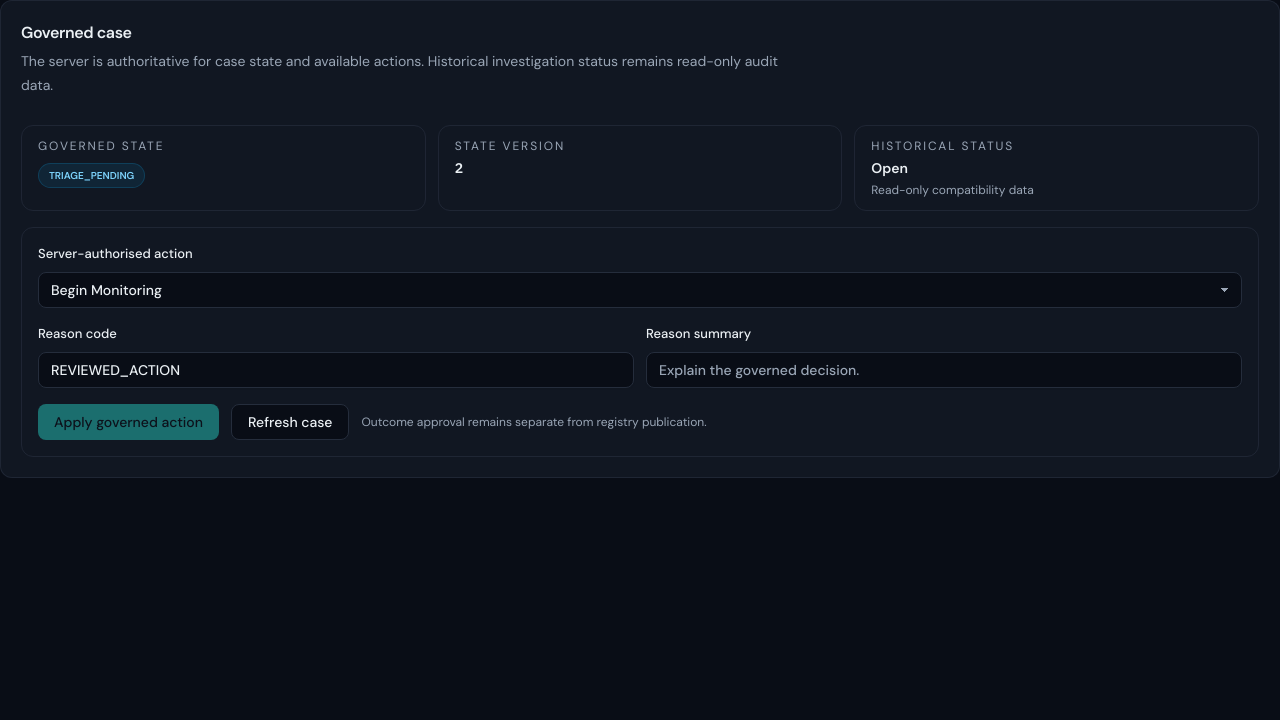
it: GovernedCaseActionPanel › refreshes stale case without replaying the user action
Expected: the button "Apply governed action" is shown, [38, 404, 219, 440]
In the field labelled "Reason summary": x=944, y=370 [646, 352, 1242, 388], type "Review decision."
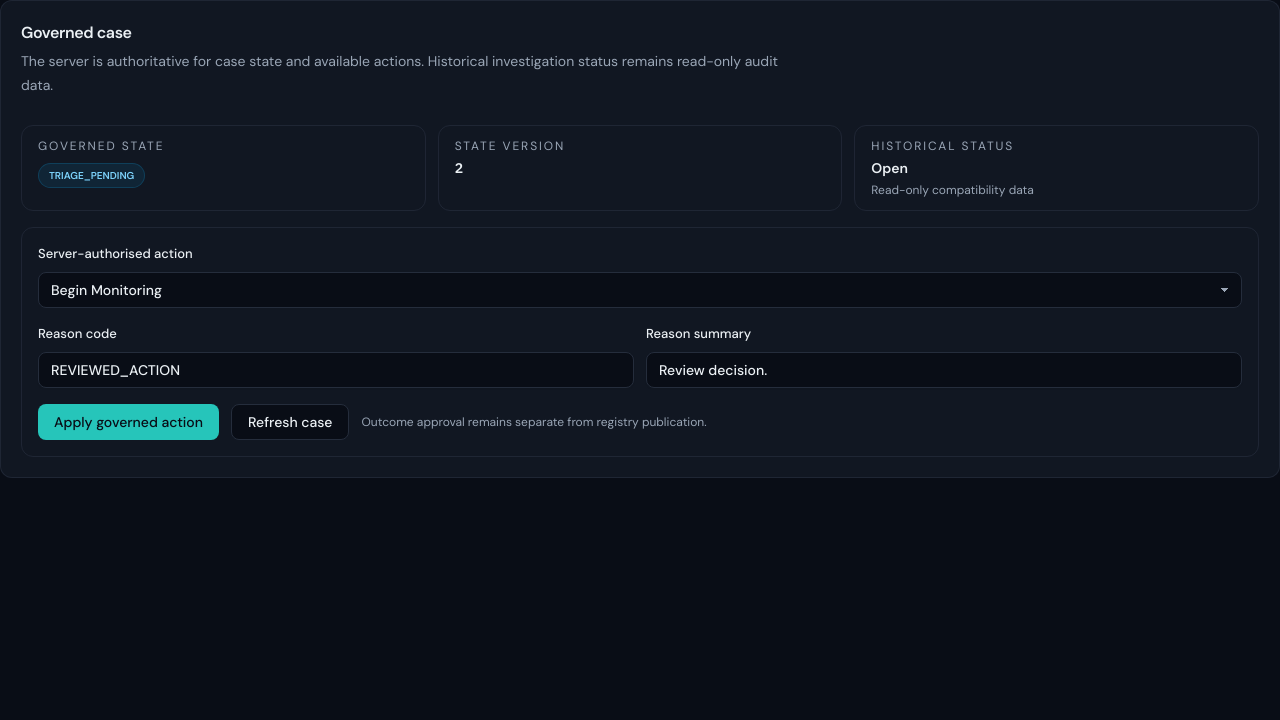
Click the button "Apply governed action": x=128, y=422 [38, 404, 219, 440]
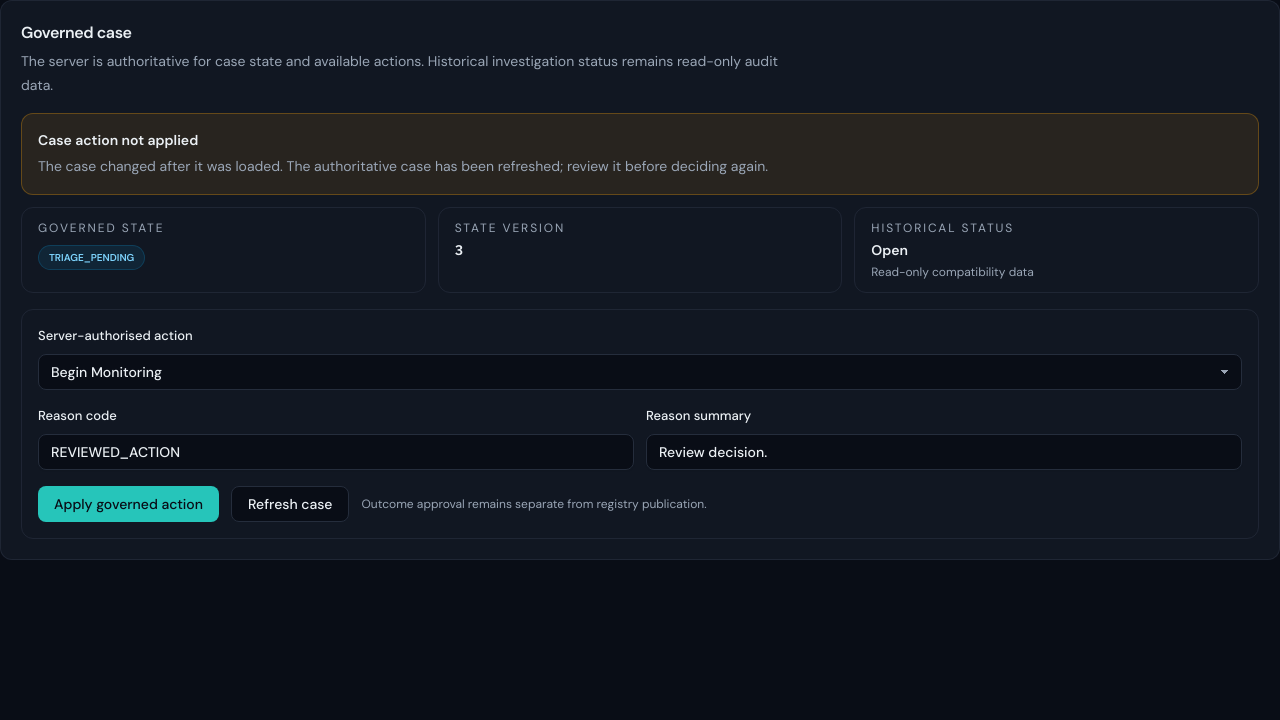
Now the text "authoritative case has been refreshed" is shown, box [38, 157, 768, 175]
Now the text "3" is shown, box [455, 241, 463, 259]
